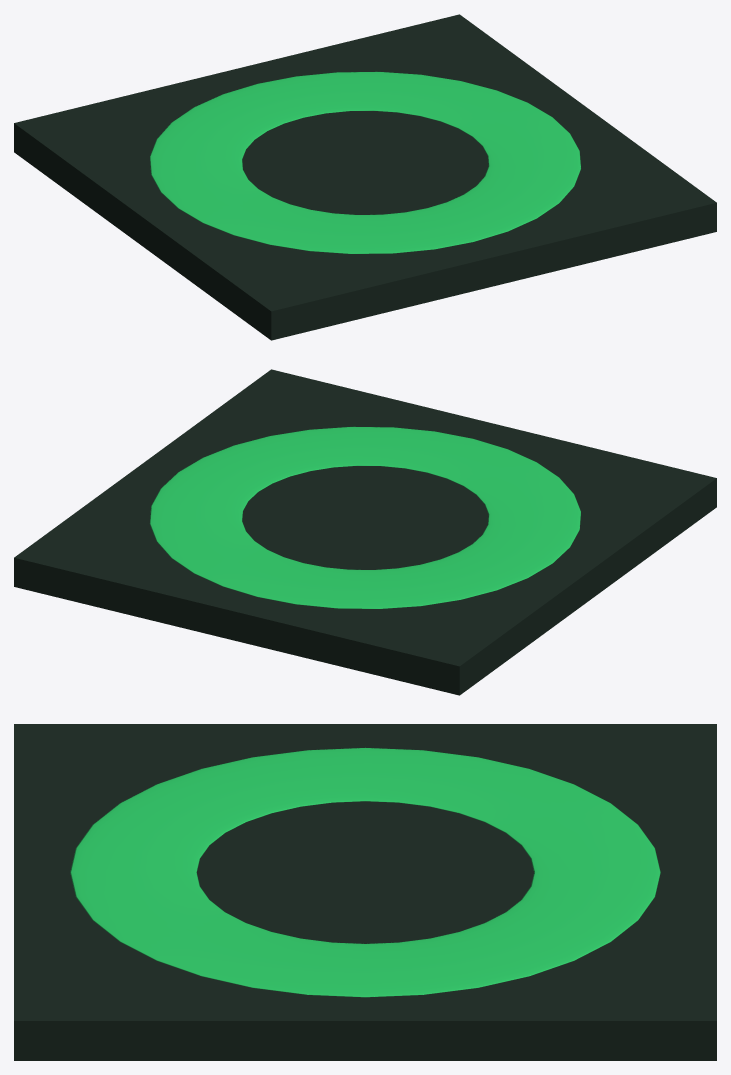
File: spawnpoint.glb
3 renders of one model, top to bottom at view 1: azimuth 30°, elevation 25°; view 2: azimuth 150°, elevation 25°; view 3: azimuth 270°, elevation 25°, orthographic. The views are drawn at different scales.
Visible parts, largest first — view 1: _MeshInstance3D_5, _MeshInstance3D_6; view 2: _MeshInstance3D_5, _MeshInstance3D_6; view 3: _MeshInstance3D_5, _MeshInstance3D_6.
Boxes of the visible parts, x1=… form: _MeshInstance3D_5: x1=14, y1=14, x2=716, y2=340; _MeshInstance3D_6: x1=150, y1=71, x2=580, y2=253; _MeshInstance3D_5: x1=14, y1=369, x2=716, y2=695; _MeshInstance3D_6: x1=150, y1=426, x2=580, y2=608; _MeshInstance3D_5: x1=14, y1=724, x2=716, y2=1060; _MeshInstance3D_6: x1=70, y1=747, x2=660, y2=997.
Bounding box in the file's own units: 2.08 × 0.1356 × 2.08.
